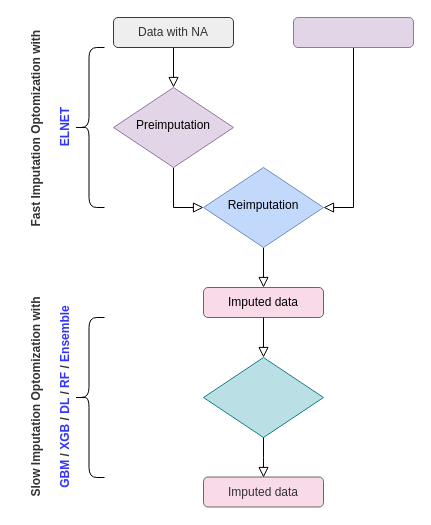
The diagram is 431 pixels wide and 525 high, and some of its shapes have lost their labels. The shapes that lost their labels are listed below. From the top down, each one's box as (x1, y1, x2, y2) in pixels, then its label:
(292, 16, 414, 48): Preimputed data
(202, 356, 324, 438): Postimputation
